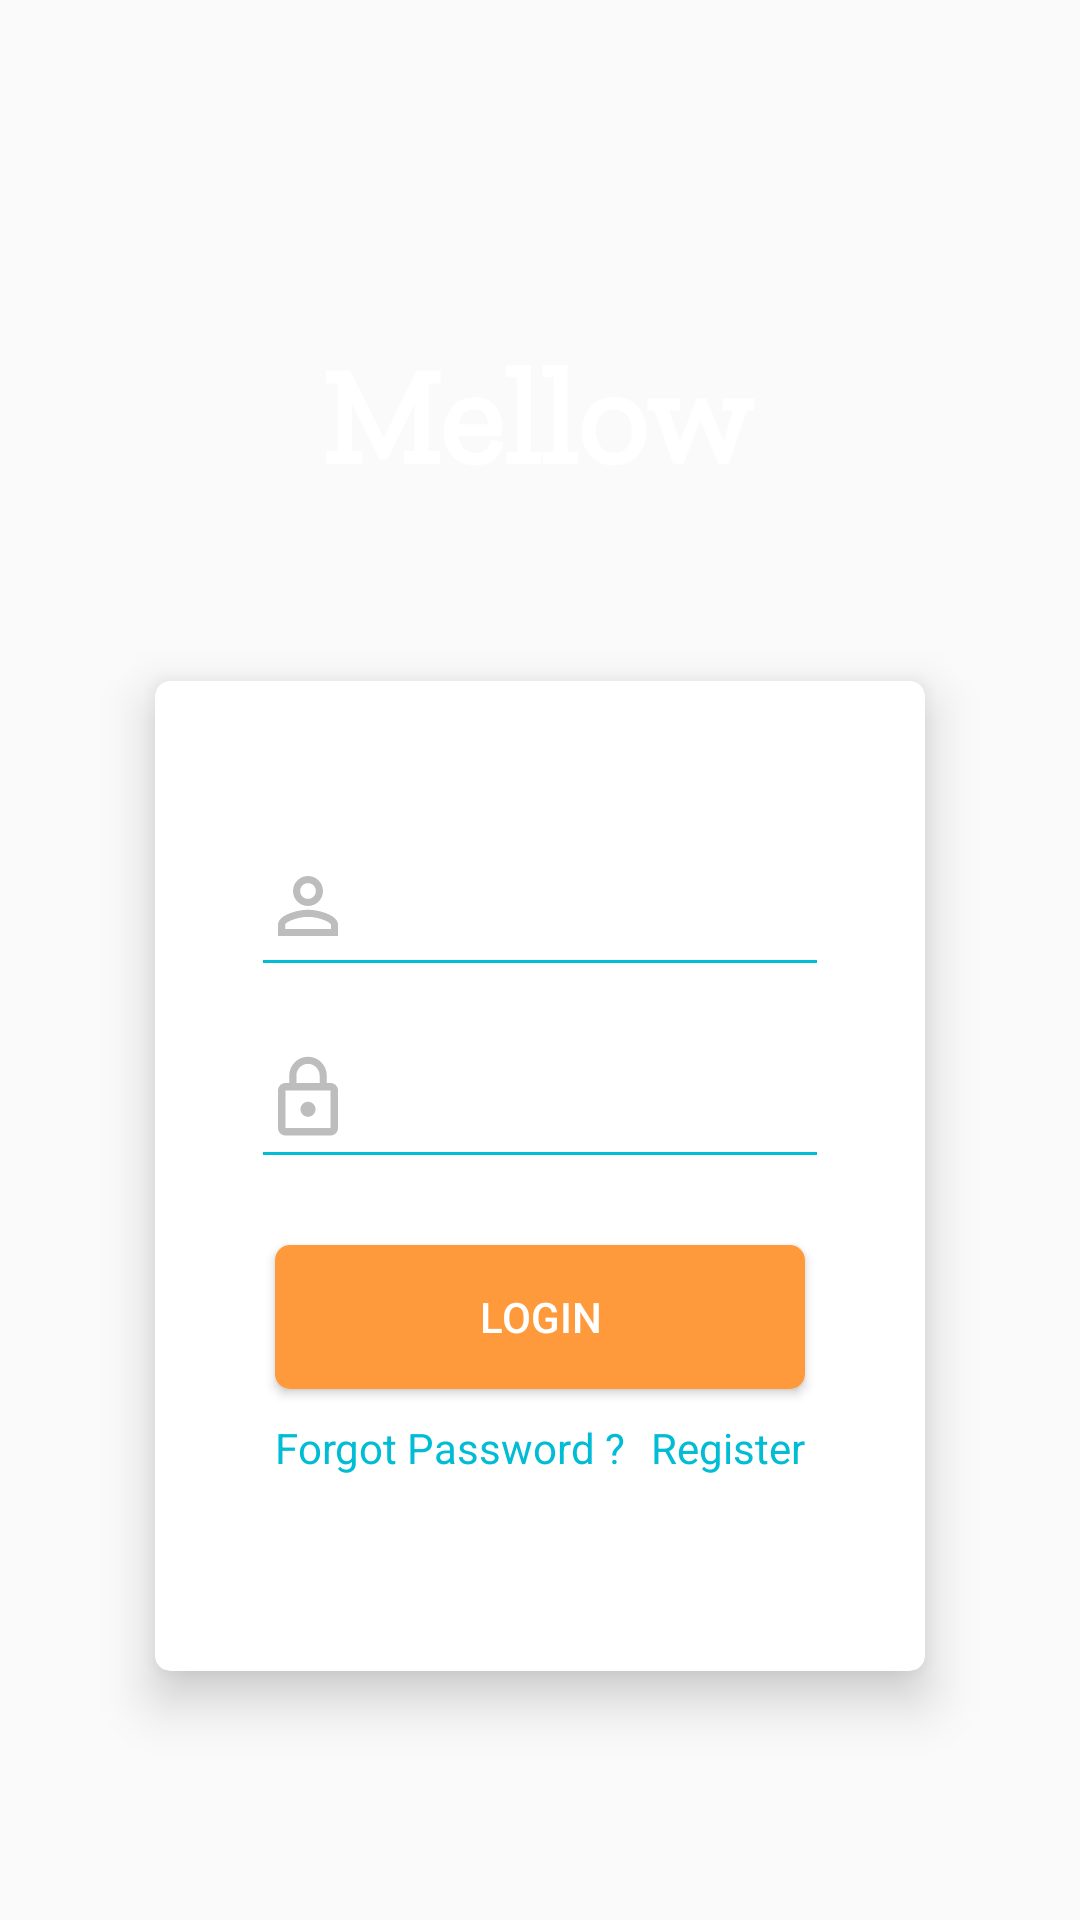

Icon bounding boxes for this 1080 × 1920 phone screenshot, format (x1, y1, x2, y2):
lock: (278, 1057, 338, 1136)
perm identity: (278, 876, 338, 936)
